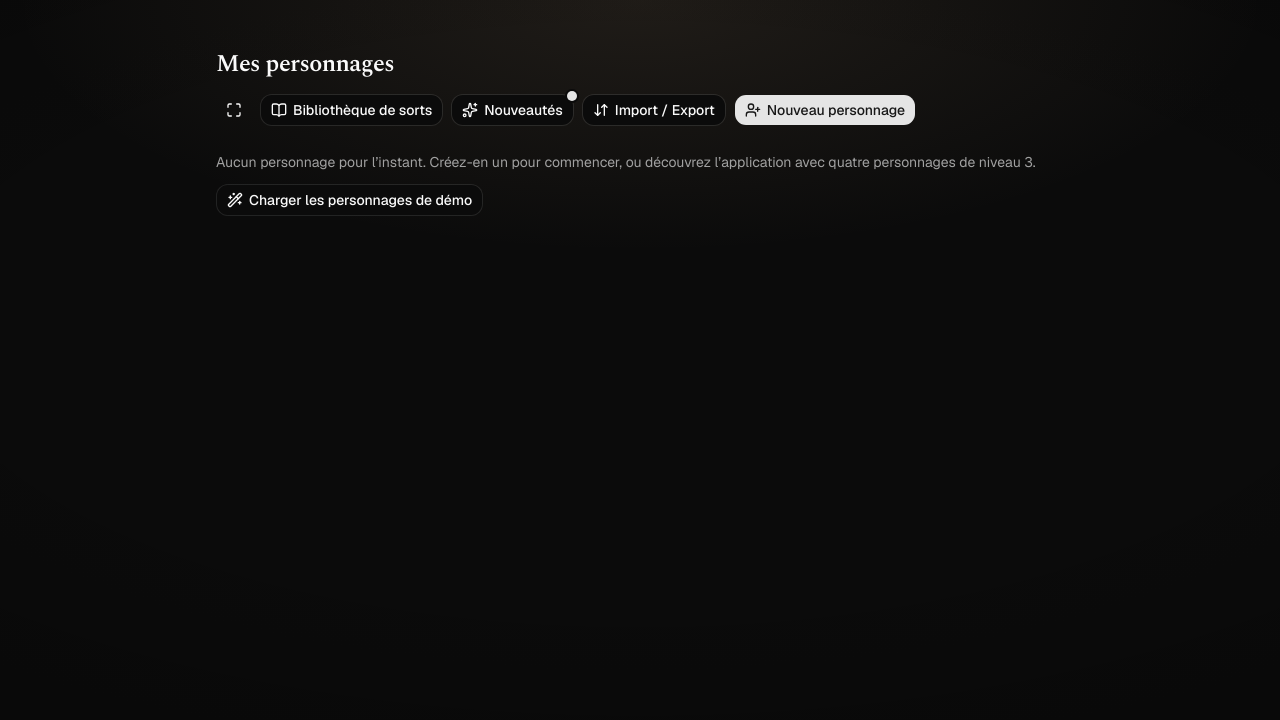
Scenario: CharacterList › deletes a character after confirmation
The image size is (1280, 720).
Step 1. Click the button "Nouveau personnage" → (825, 110), box [734, 94, 916, 126]
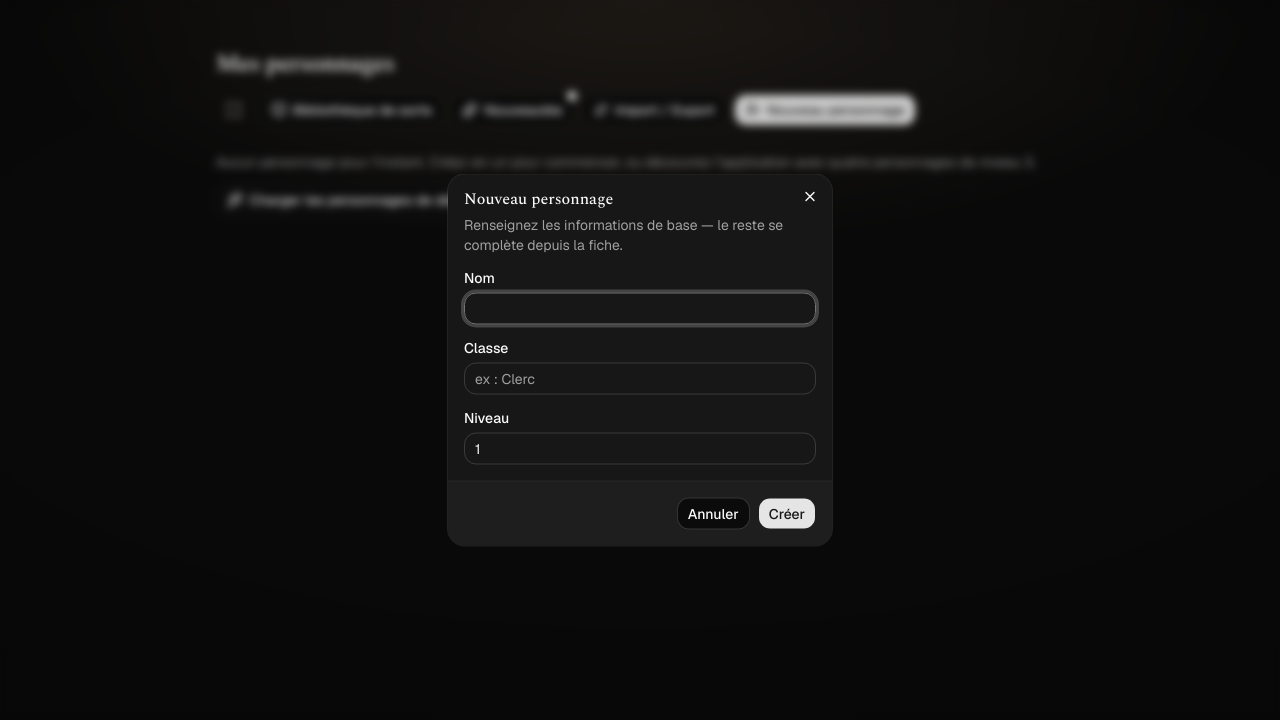
Step 2. Type "Elara Duskwood" into the field labelled "Nom" → (640, 308), box [464, 292, 816, 324]
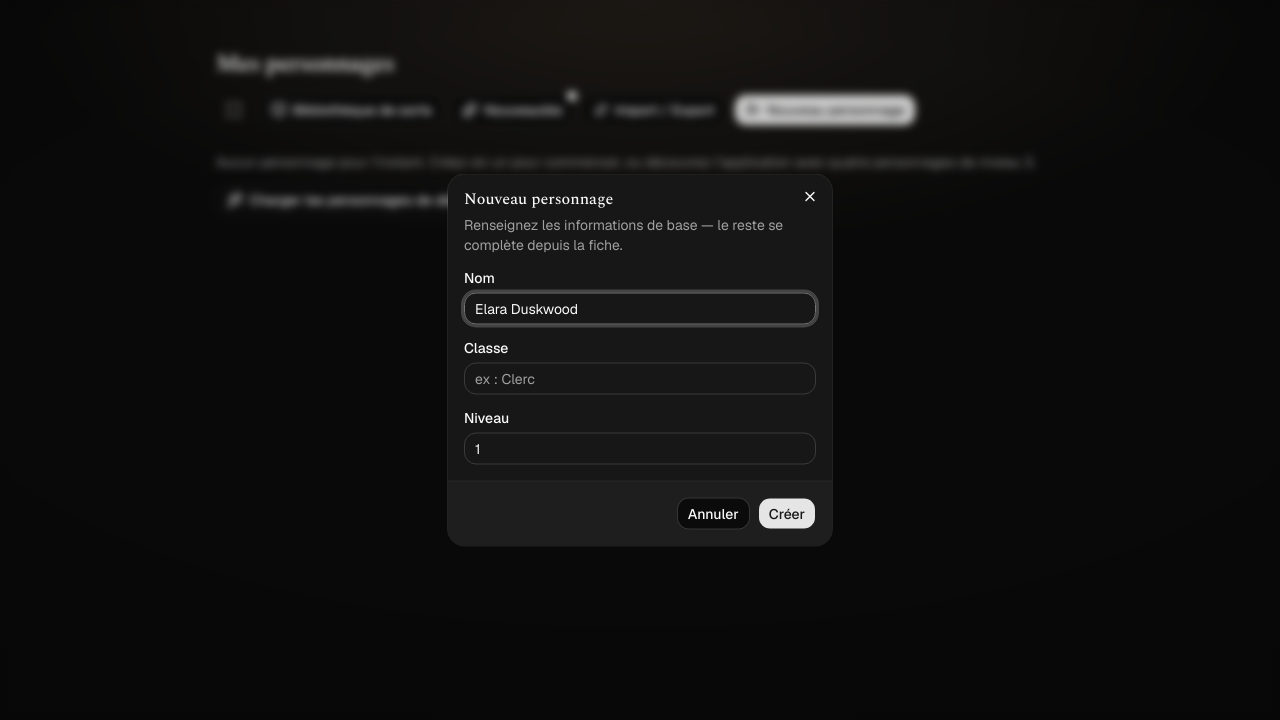
Step 3. Type "Clerc" into the field labelled "Classe" → (640, 378), box [464, 362, 816, 394]
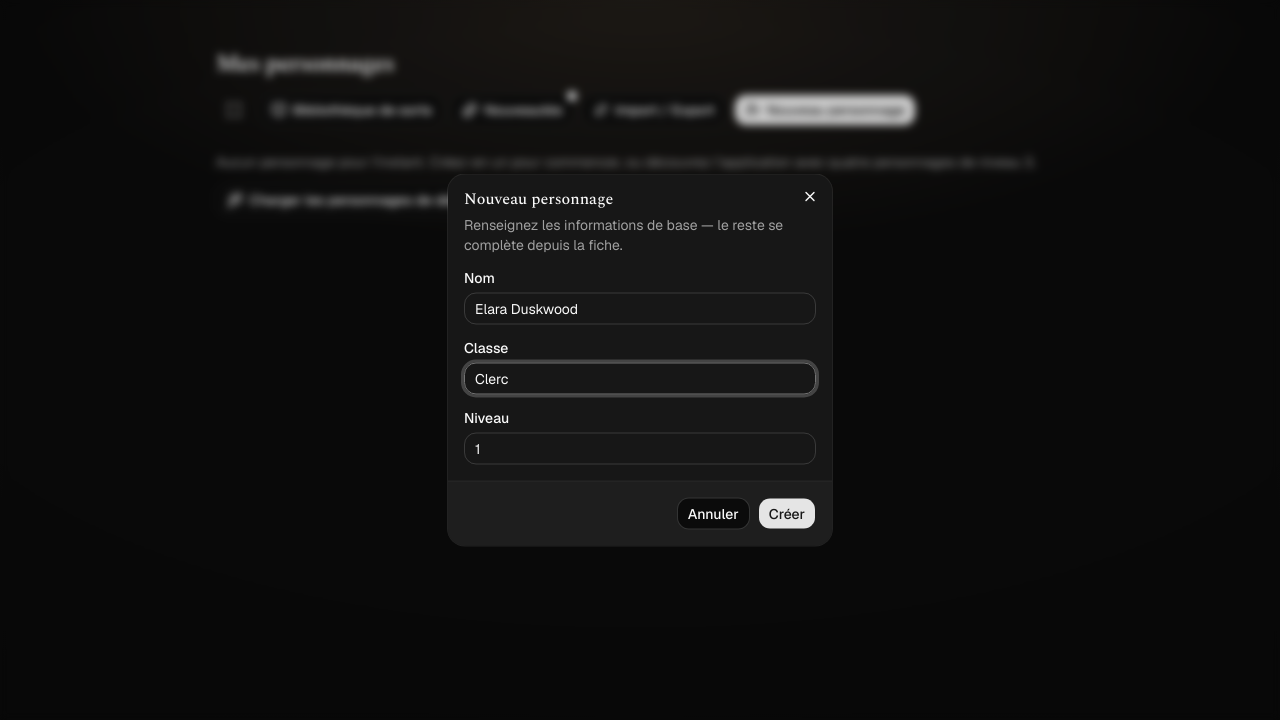
Step 4. Click the button "Créer" → (787, 514), box [758, 498, 816, 530]
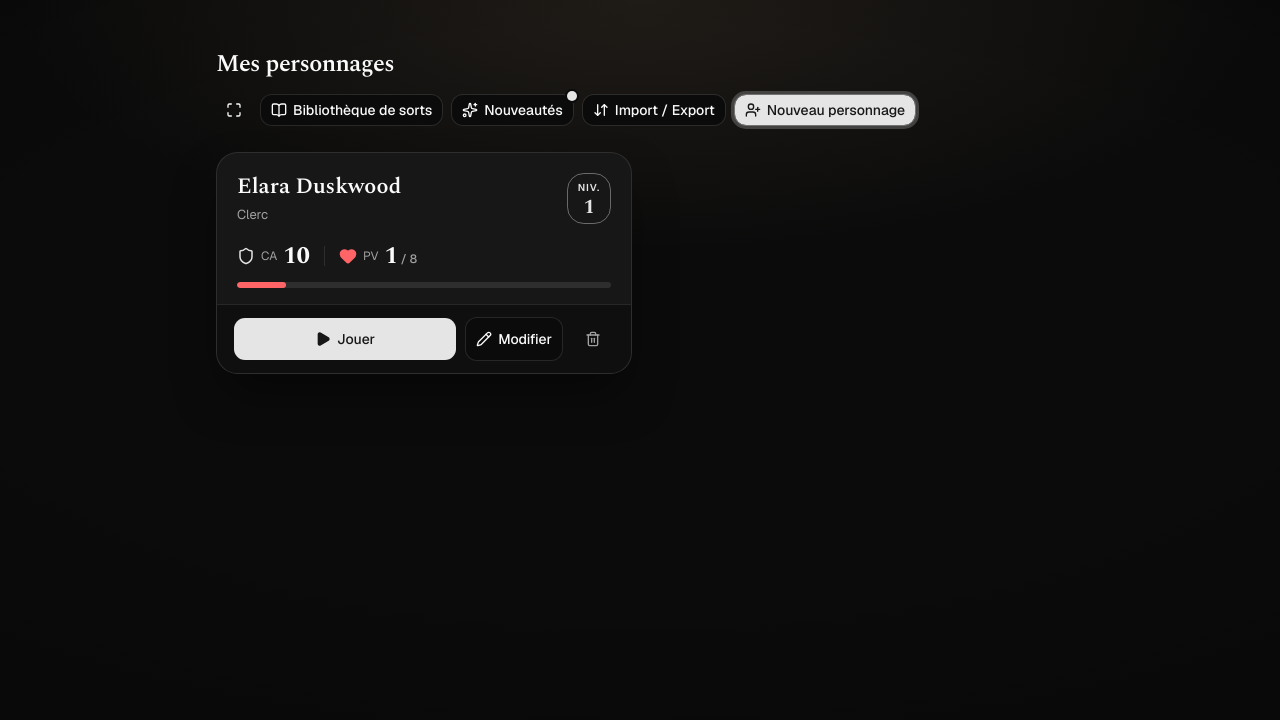
expect the heading "Elara Duskwood" is shown: met, box [237, 173, 401, 200]
Step 5. Click the button named "supprimer" → (593, 339), box [571, 317, 615, 361]
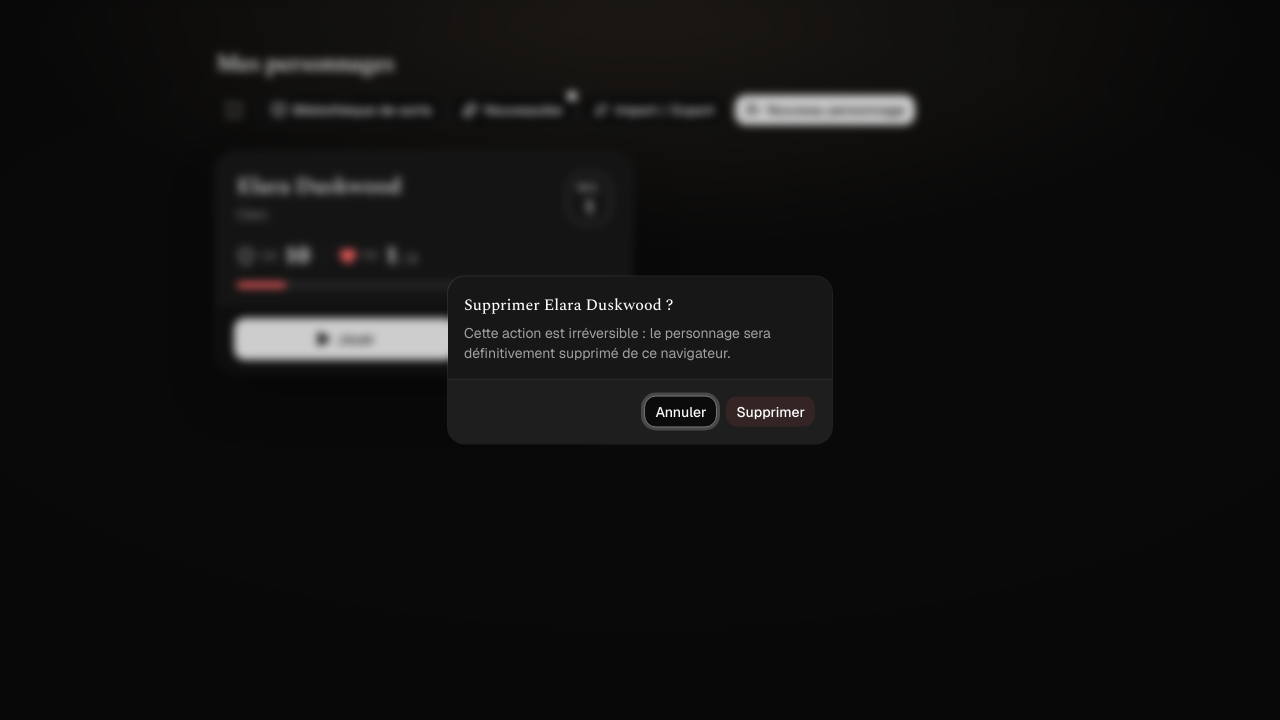
Step 6. Click the button "Supprimer" → (771, 412), box [725, 396, 816, 428]
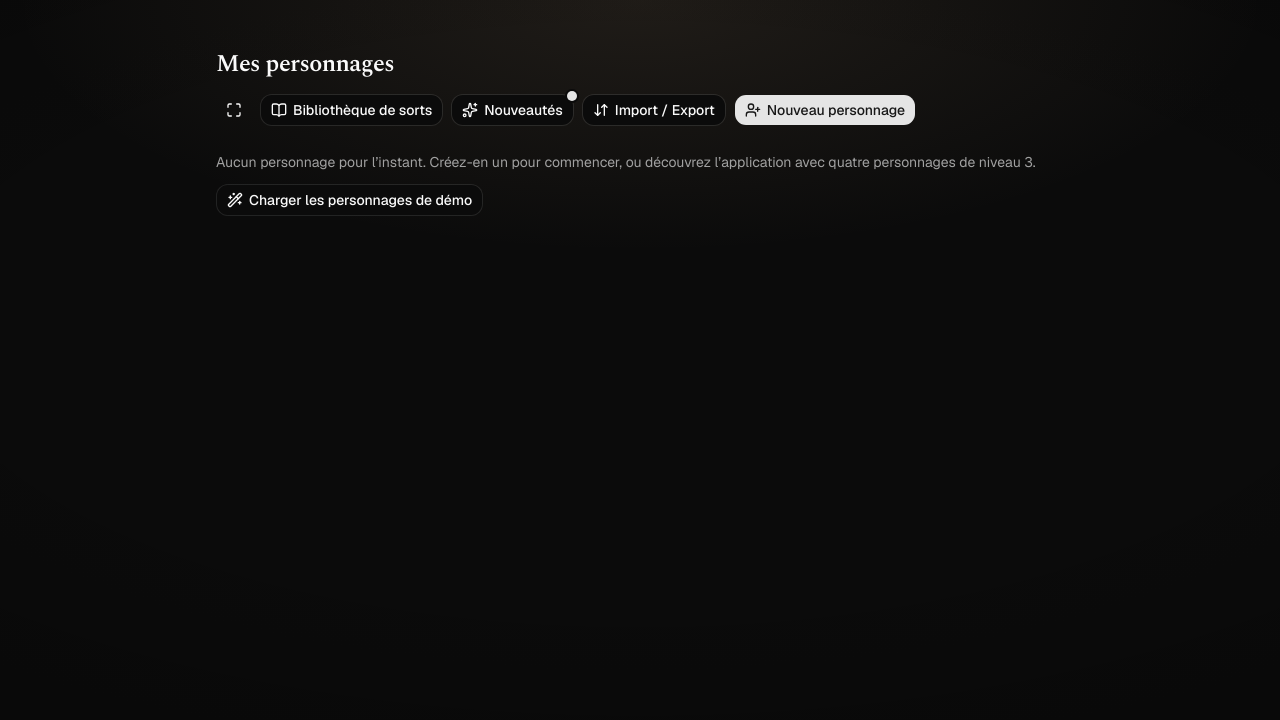
expect the heading "Elara Duskwood" is gone: met
expect the text "Aucun personnage" is shown: met, box [216, 153, 1036, 171]
